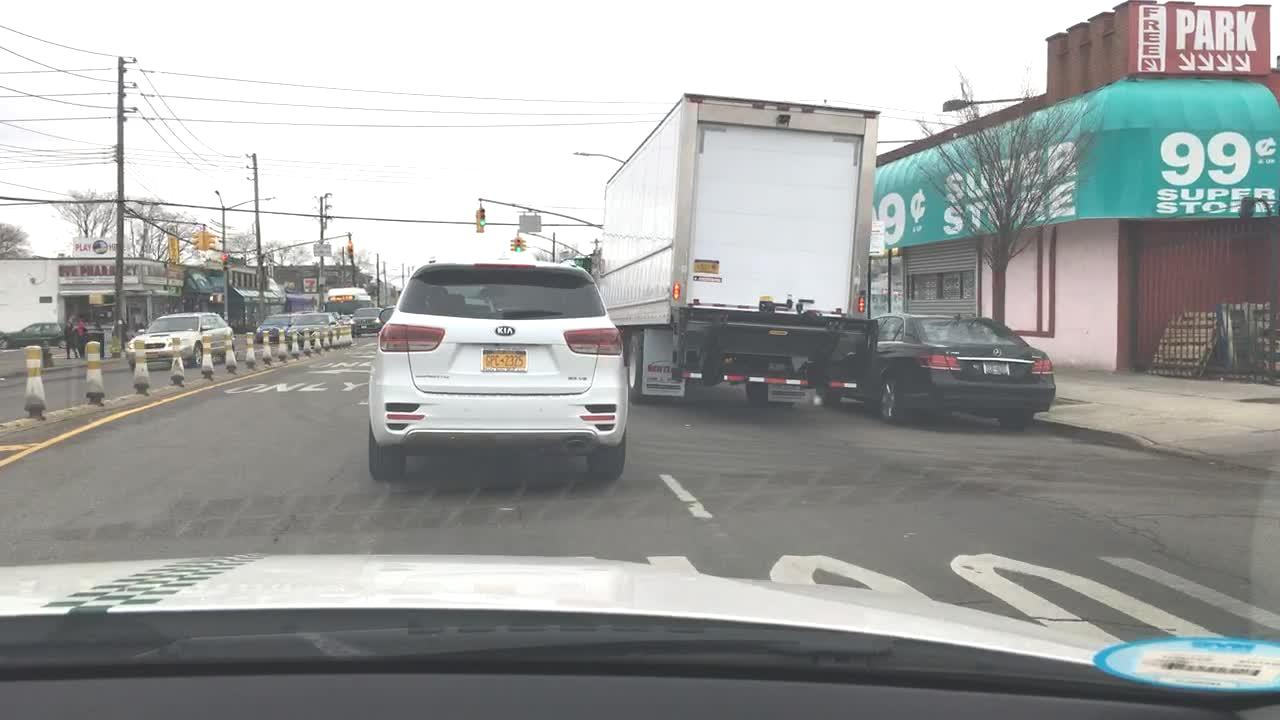Mercedes: (991, 347, 1005, 359)
kia: (493, 322, 519, 341)
